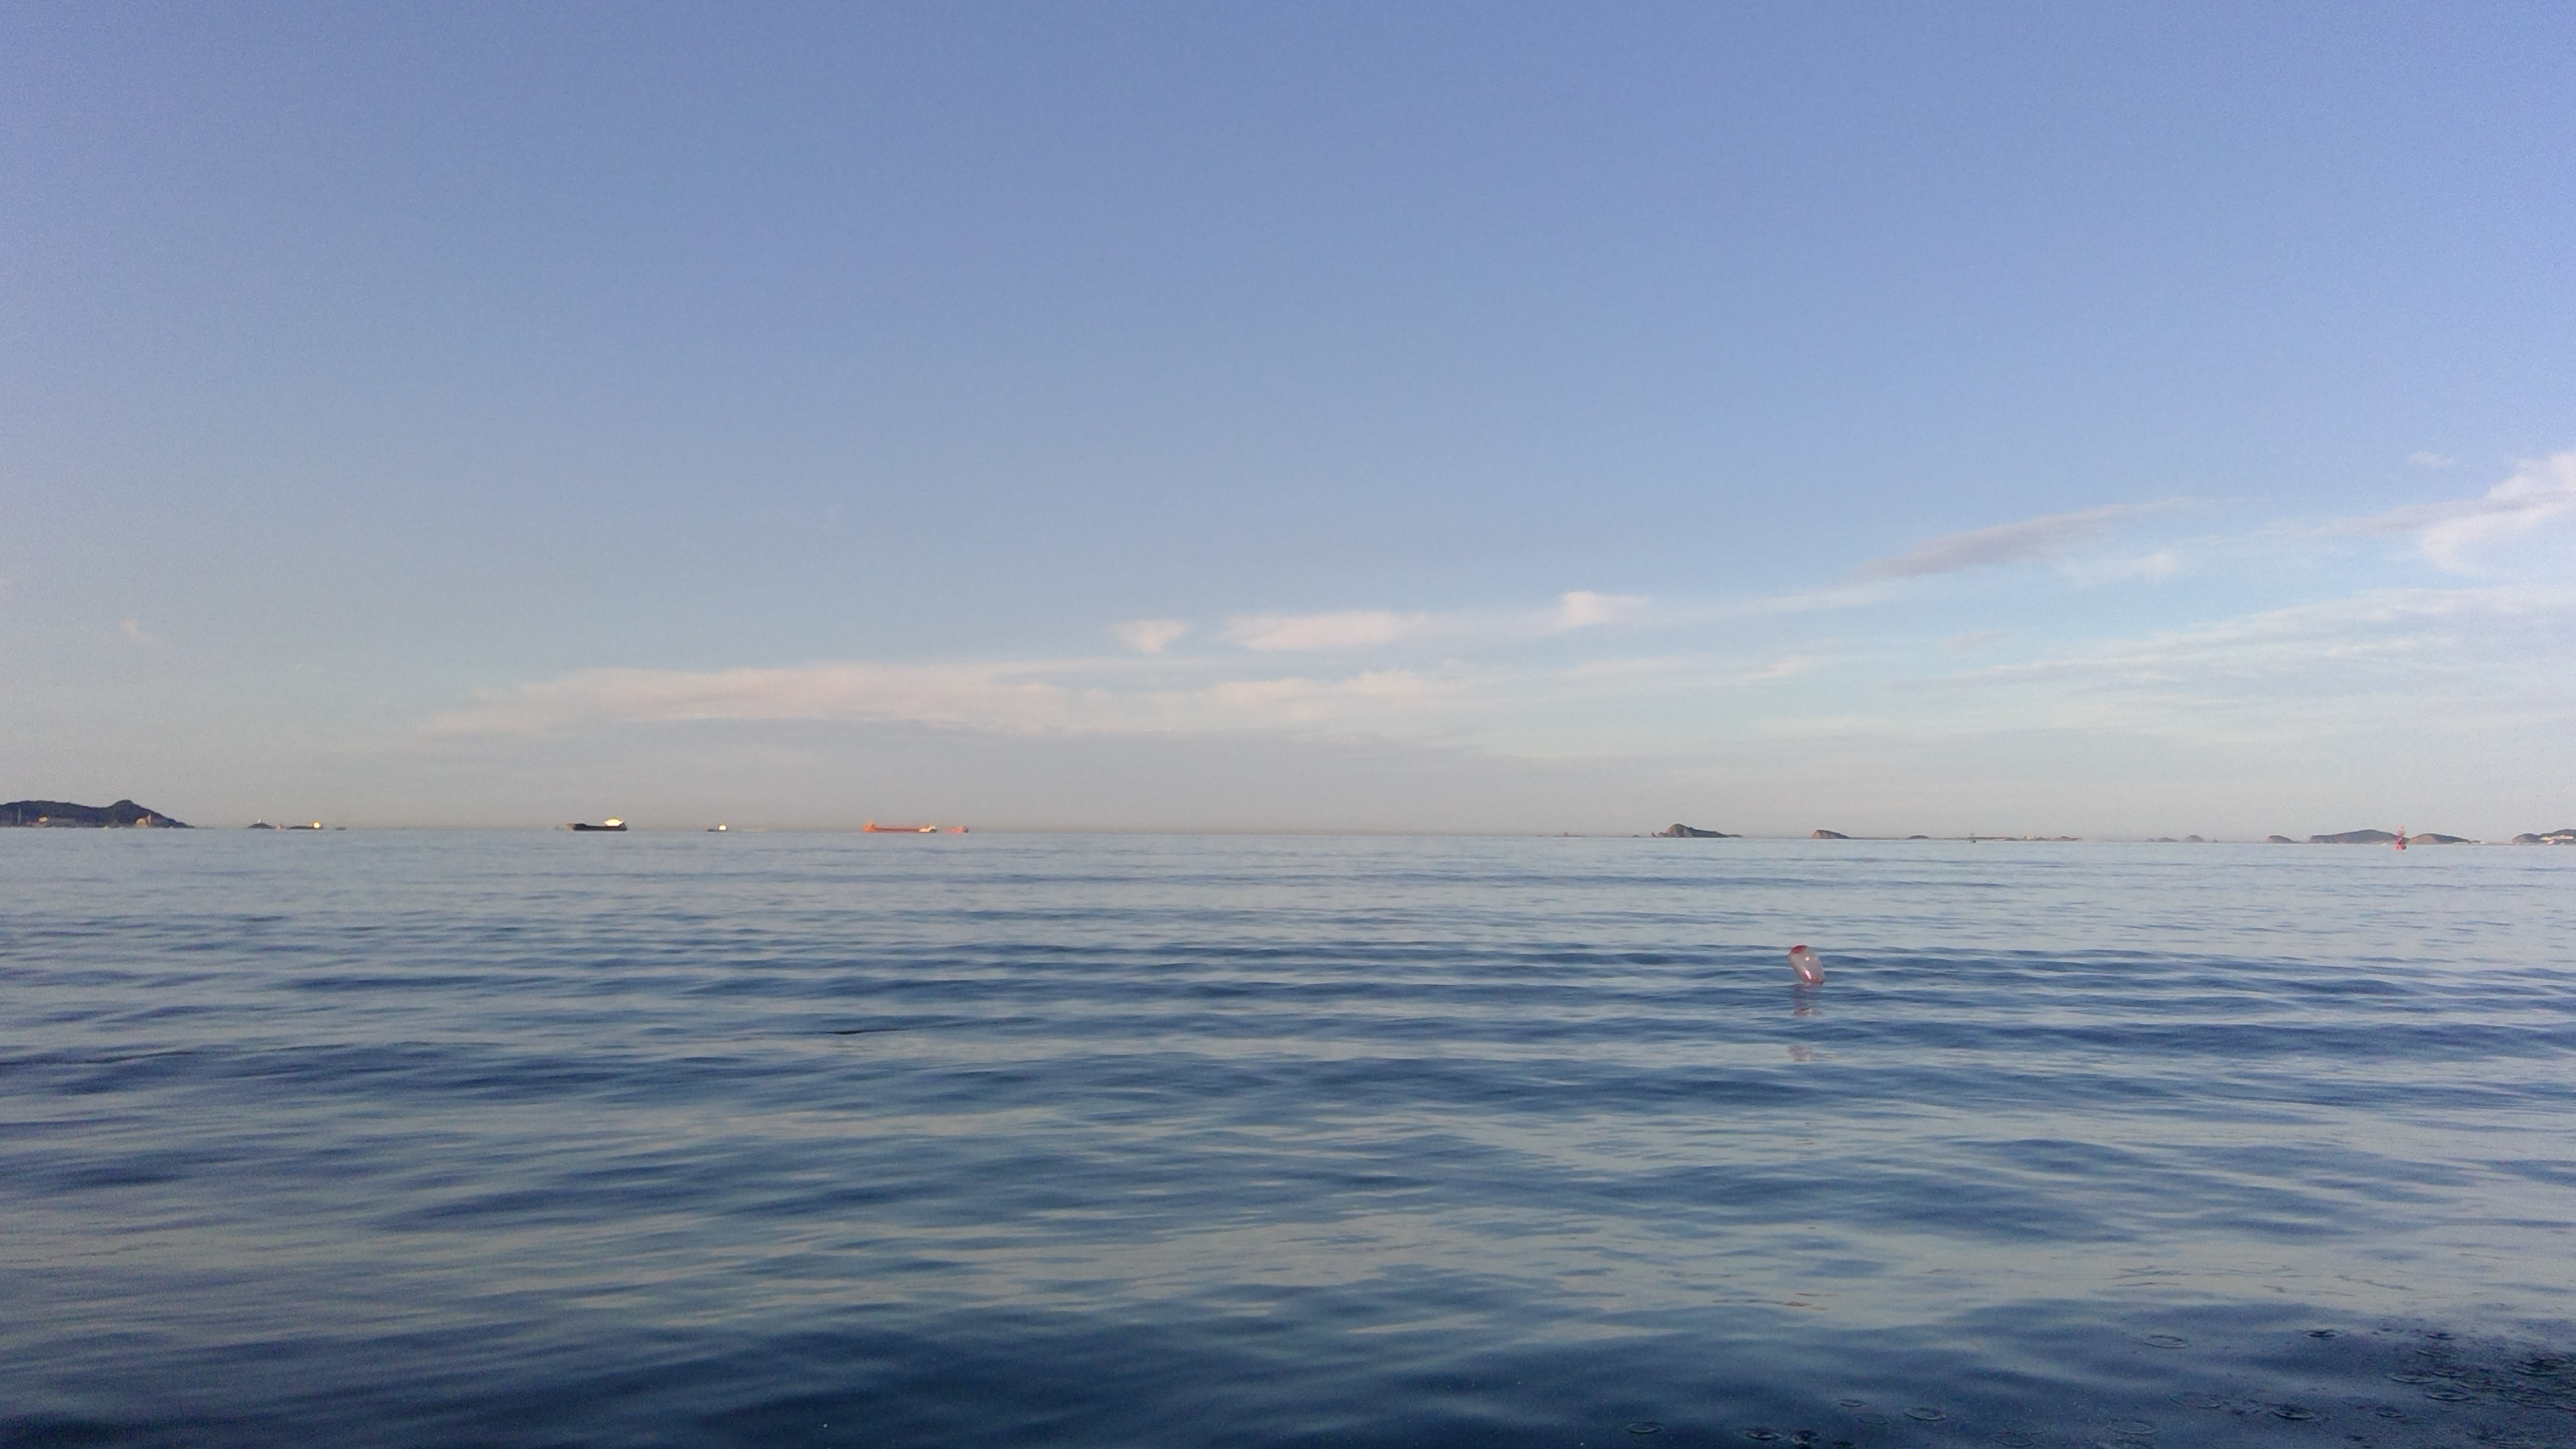buoy: (2390, 812, 2410, 870)
platform: (860, 809, 970, 842)
rock: (5, 787, 180, 835), (2268, 824, 2477, 856), (2516, 812, 2576, 851), (1654, 816, 1737, 840), (1792, 826, 1838, 844)
rubbish: (1783, 931, 1829, 998)
ship: (251, 814, 345, 842), (570, 817, 637, 839)
